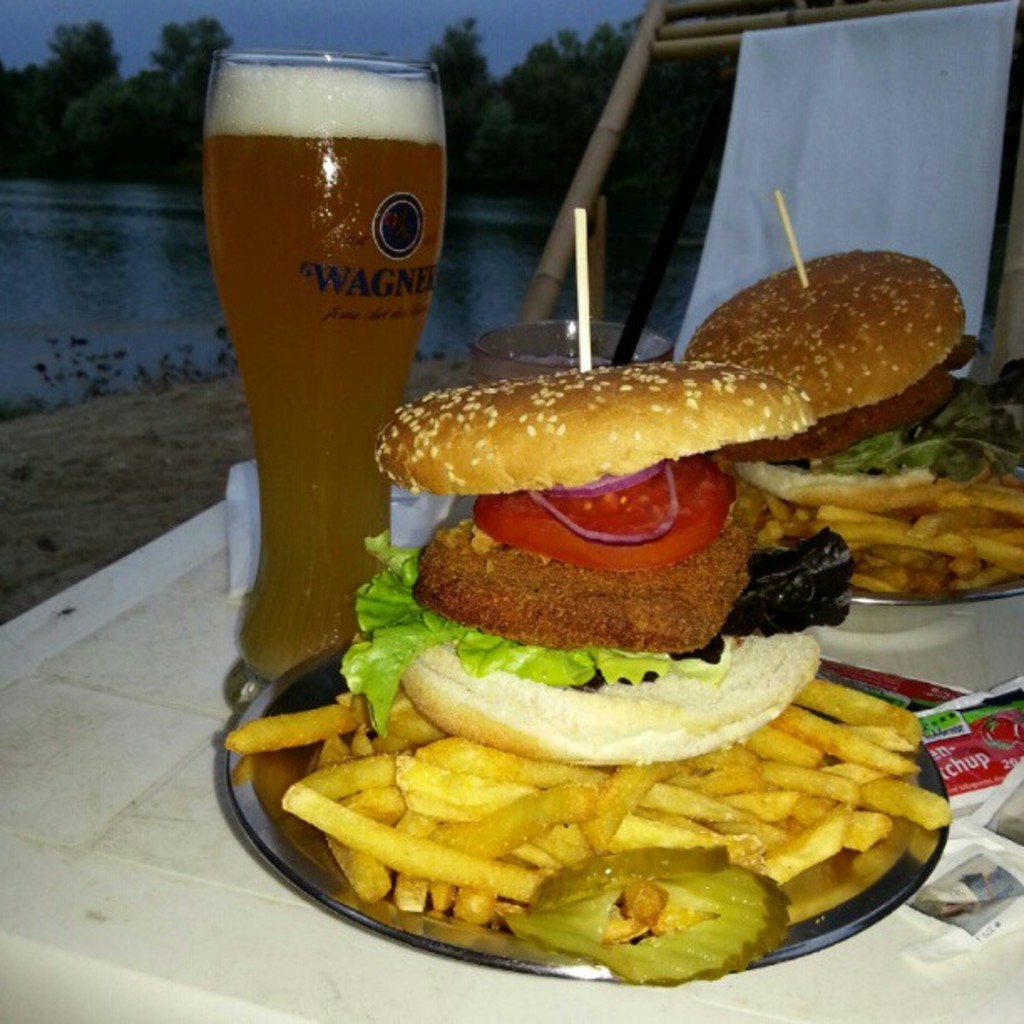Beer: (202, 49, 446, 716)
